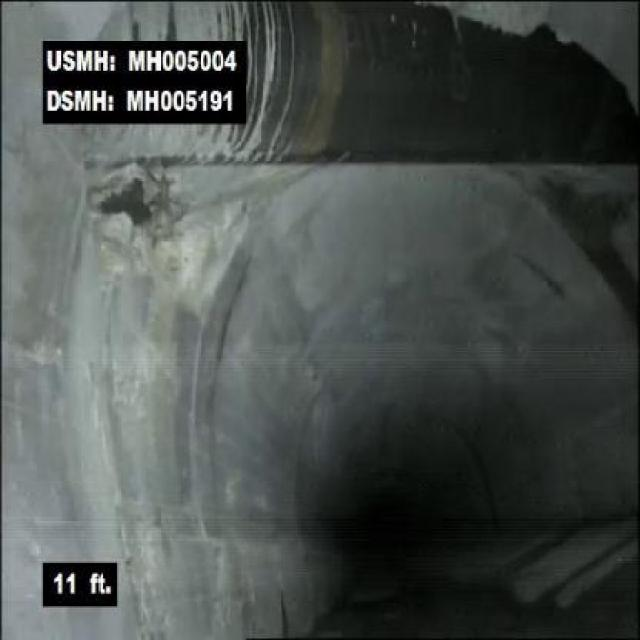Utility intrusion: (64, 8, 638, 182)
